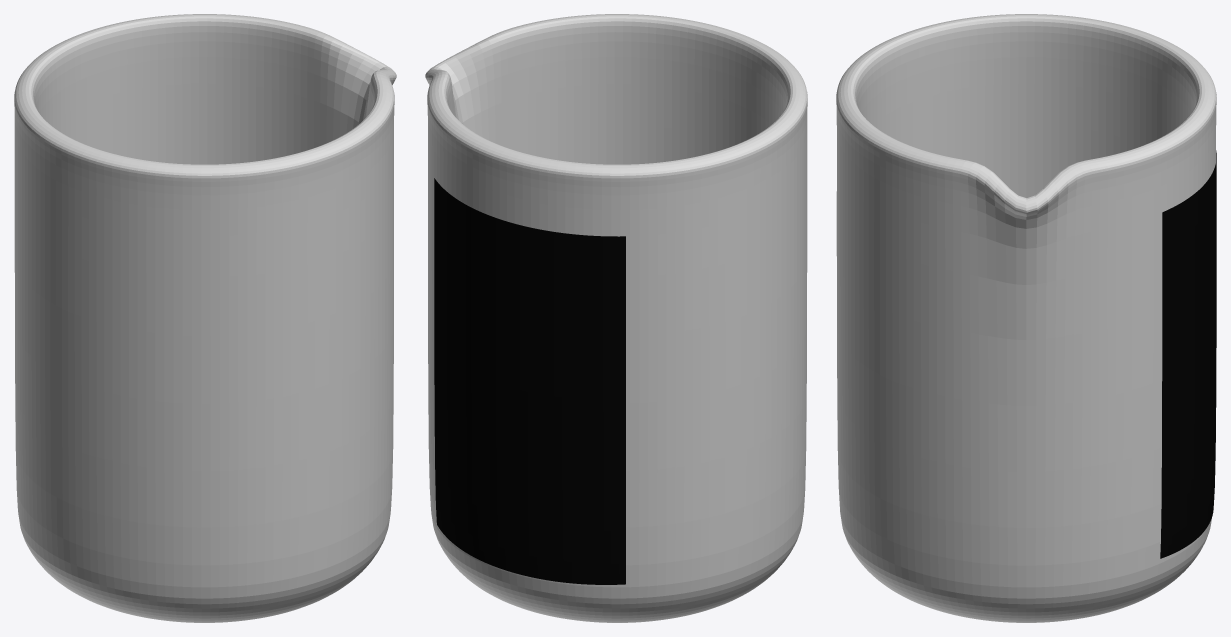
Rendered from ode-beaker 3.fbx.
3 views of the same model, side by side, from view 1: azimuth 30°, elevation 25°; view 2: azimuth 150°, elevation 25°; view 3: azimuth 270°, elevation 25° (orthographic).
Visible parts, largest first — view 1: Circle; view 2: Circle, beaker_label; view 3: Circle, beaker_label.
Boxes of the visible parts, box(x1,y1,x2,y2) form: Circle: box(14, 14, 396, 622); Circle: box(425, 14, 807, 622); beaker_label: box(434, 178, 625, 584); Circle: box(836, 14, 1216, 622); beaker_label: box(1160, 150, 1216, 558).
Size of the model in its own units: 669 by 864 by 623.
Materials: 2 (1 with a texture image).
